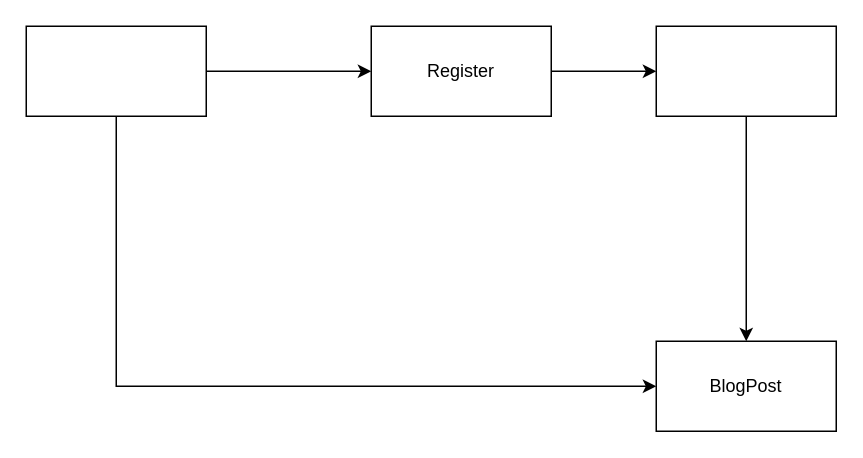
This 863x458 diagram has some shape labels left out. Here are the shapes that lost their labels. From the top down, the centre of each, then its label:
the point at 115,70: User
the point at 745,70: Login
